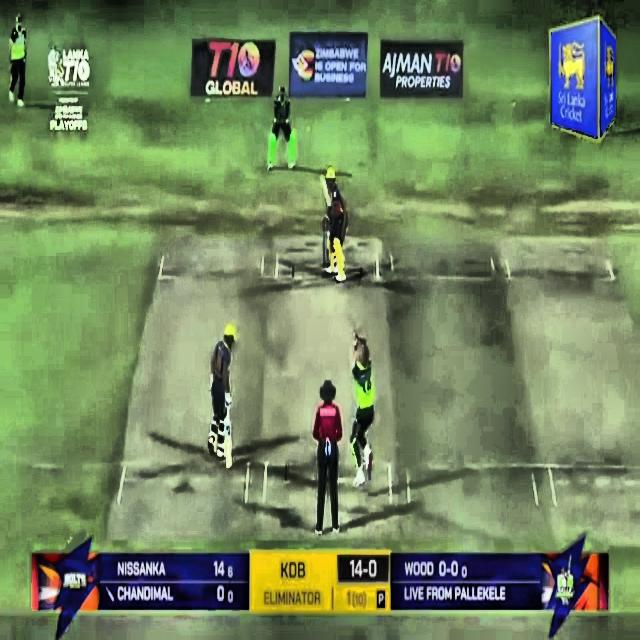Left-stump: (322, 221, 326, 267)
Middle-stump: (327, 248, 330, 266)
